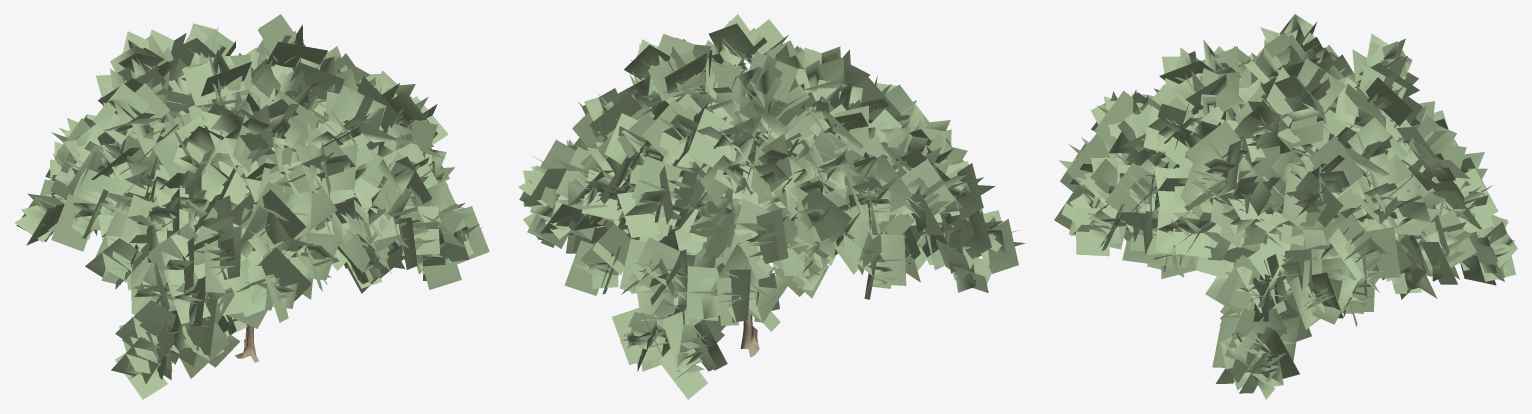
The model's file is plain-tree.glb.
3 views of the same model, side by side, from view 1: azimuth 30°, elevation 25°; view 2: azimuth 150°, elevation 25°; view 3: azimuth 270°, elevation 25° (orthographic).
Bounding box in the file's own units: 24.65 × 16.88 × 22.98.
